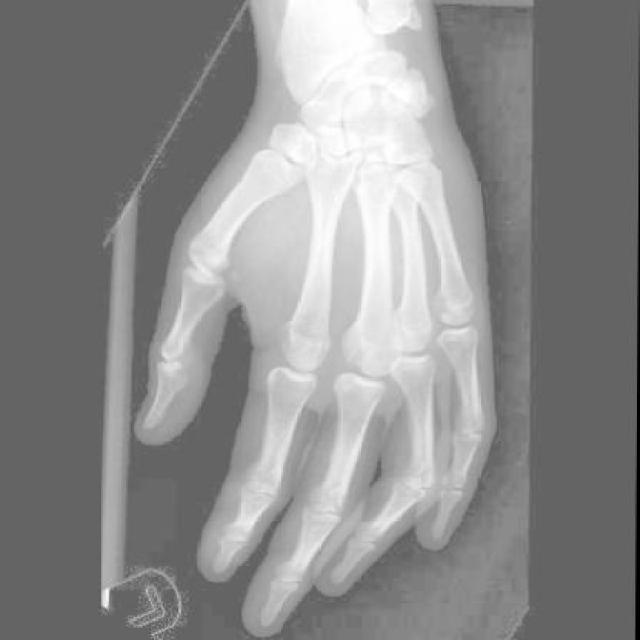Fracture: (345, 313, 407, 370)
